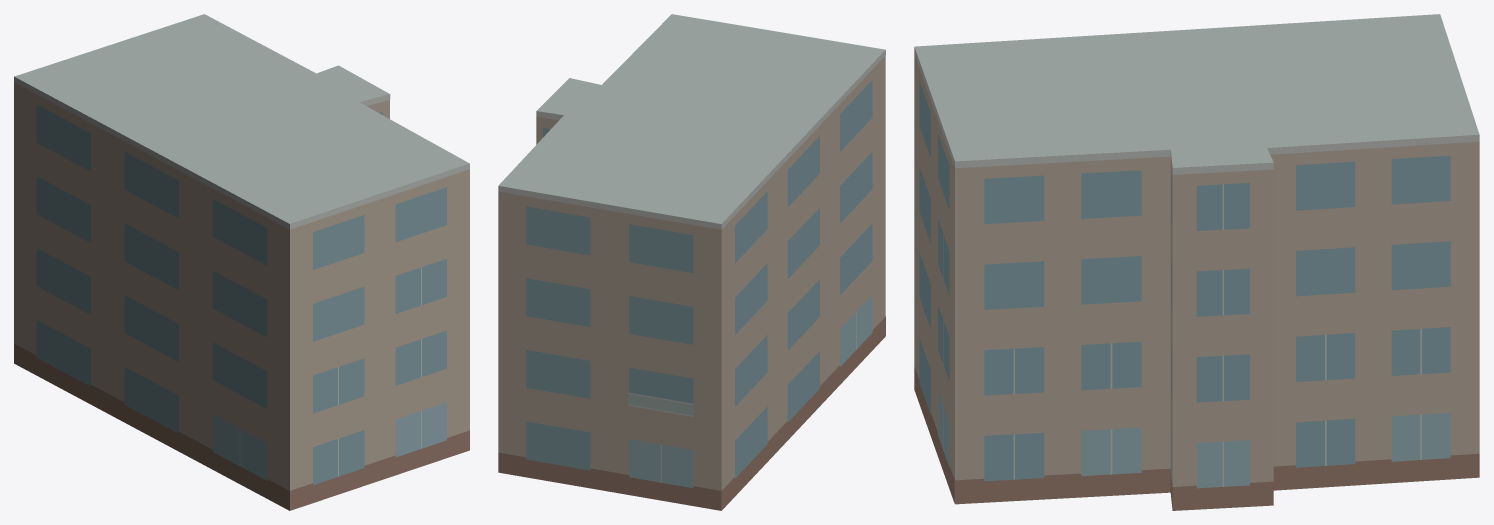
File: survey-upis-32922148.glb
The picture shows the model from 3 angles, left to right: view 1: azimuth 30°, elevation 25°; view 2: azimuth 150°, elevation 25°; view 3: azimuth 270°, elevation 25°; orthographic projection. The views are drawn at different scales.
Visible parts, largest first — view 1: survey-upis-32922148.tmp; view 2: survey-upis-32922148.tmp; view 3: survey-upis-32922148.tmp.
Part boxes in pixels (x1,y1,x2,y2): survey-upis-32922148.tmp: (14,14,469,510); survey-upis-32922148.tmp: (498,14,885,510); survey-upis-32922148.tmp: (914,14,1479,510).
Bounding box in the file's own units: 11.76 × 12.2 × 18.24.
